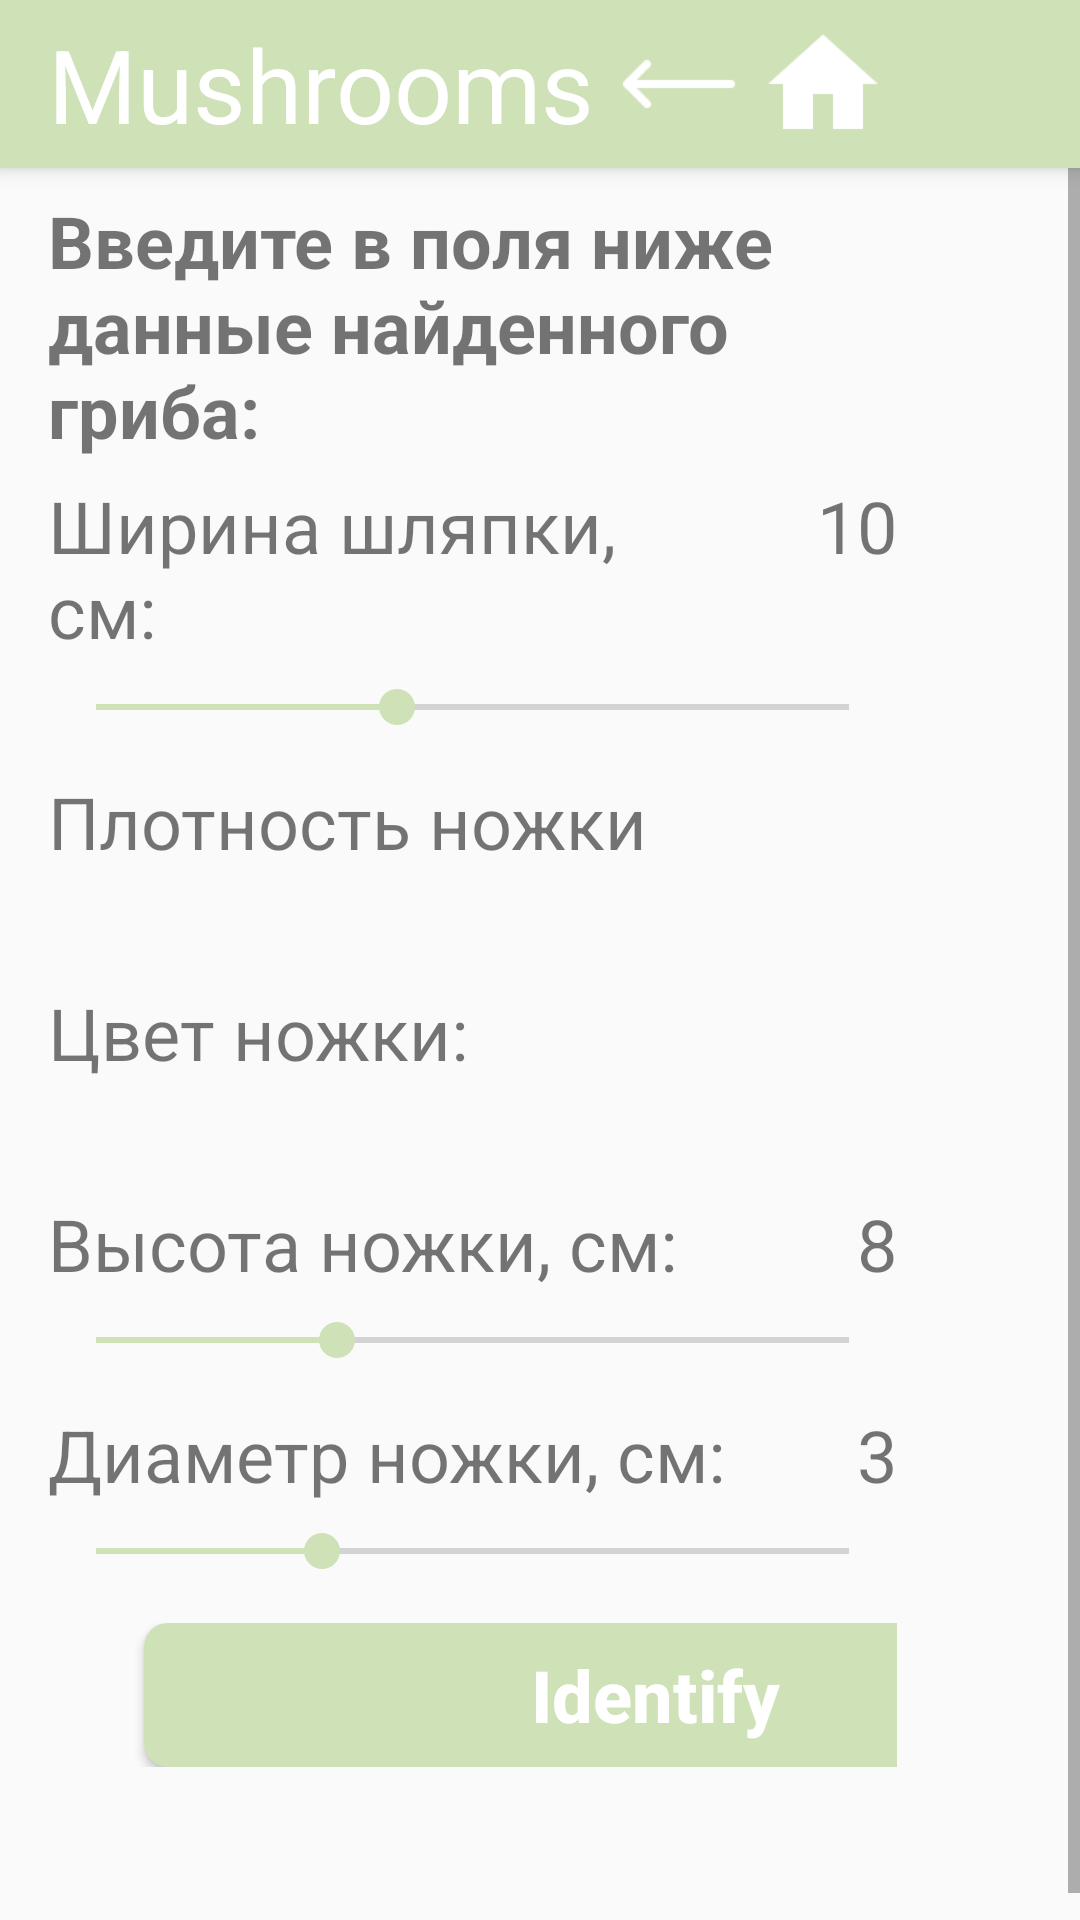

Named icons in this screenshot (1080px×1920px) and their centers, point (x, y):
home: point (823, 82)
long arrow left: point (679, 84)
